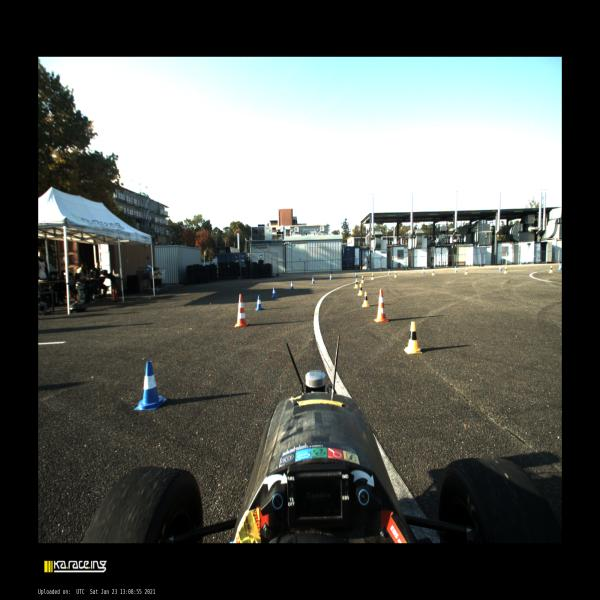blue_cone: (136, 361, 166, 410), (255, 294, 263, 310), (272, 287, 276, 298), (290, 281, 294, 290), (498, 265, 502, 271), (454, 267, 458, 273), (558, 264, 562, 270), (355, 272, 358, 278), (329, 274, 332, 280), (422, 268, 424, 274), (388, 270, 390, 276), (330, 274, 332, 280), (312, 277, 314, 283)
large_orange_cone: (374, 288, 388, 323), (234, 294, 248, 326)
yellow_cone: (404, 322, 422, 353), (361, 291, 370, 307), (358, 285, 363, 296), (548, 264, 553, 274), (504, 266, 508, 274), (464, 267, 468, 275), (354, 280, 358, 288), (361, 274, 364, 284), (431, 269, 435, 276), (371, 272, 374, 280), (394, 272, 396, 278)
